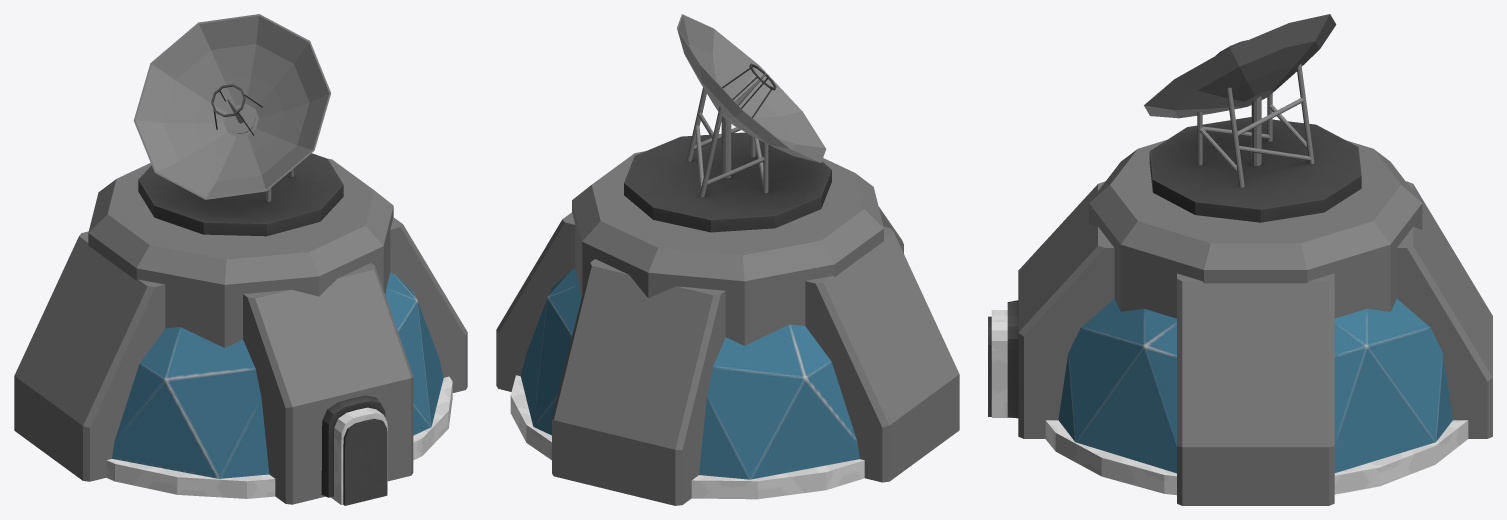
The model's file is Antenna2.glb.
The picture shows the model from 3 angles, left to right: view 1: azimuth 30°, elevation 25°; view 2: azimuth 150°, elevation 25°; view 3: azimuth 270°, elevation 25°; orthographic projection. The views are drawn at different scales.
Visible parts, largest first — view 1: animation, Cube.004, Cylinder, Cube.003, Icosphere, Circle, Cube.001, Cube.012, Cube.037, Cube; view 2: Cube.002, Cylinder, animation, Icosphere, Cube.003, Circle, Cube.001; view 3: Cube.001, Icosphere, Cylinder, animation, Cube.004, Cube.002, Circle, Cube, Cube.037.
Boxes of the visible parts, x1,y1,x2,y2 form: animation: (133, 14, 343, 236); Cube.004: (243, 263, 413, 504); Cylinder: (88, 158, 393, 347); Cube.003: (14, 231, 165, 481); Icosphere: (112, 272, 443, 478); Circle: (106, 376, 452, 498); Cube.001: (390, 217, 467, 392); Cube.012: (343, 418, 387, 505); Cube.037: (321, 395, 385, 497); Cube: (331, 407, 387, 504); Cube.002: (552, 259, 725, 505); Cylinder: (572, 151, 883, 345); animation: (624, 14, 831, 232); Icosphere: (520, 268, 859, 479); Cube.003: (805, 226, 959, 482); Circle: (510, 375, 864, 499); Cube.001: (496, 212, 575, 391); Cube.001: (1177, 273, 1334, 505); Icosphere: (1058, 299, 1452, 473); Cylinder: (1089, 140, 1422, 318); animation: (1144, 14, 1361, 222); Cube.004: (1018, 181, 1114, 438); Cube.002: (1397, 181, 1492, 438); Circle: (1045, 420, 1468, 495); Cube: (991, 310, 1012, 417); Cube.037: (1007, 300, 1018, 418).
Size of the model in its own units: 2.19 by 2.04 by 2.33.
Materials: 1 (1 with a texture image).
